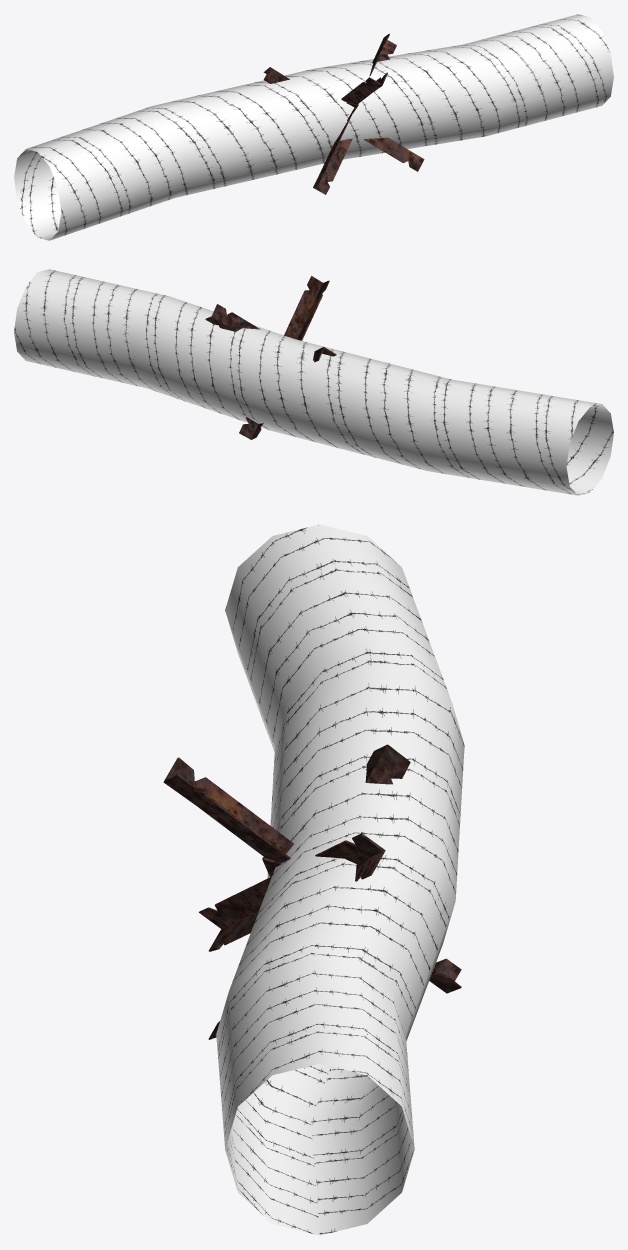
File: hedgehog_barb_1a.obj
3 views of the same model, one above another, from view 1: azimuth 30°, elevation 25°; view 2: azimuth 150°, elevation 25°; view 3: azimuth 270°, elevation 25° (orthographic). The views are drawn at different scales.
Parts seen in each view (by area): view 1: barbwire, hedgehog; view 2: barbwire, hedgehog; view 3: barbwire, hedgehog.
Boxes of the visible parts, x1,y1,x2,y2 form: barbwire: [14, 14, 613, 240]; hedgehog: [263, 33, 424, 194]; barbwire: [14, 269, 613, 495]; hedgehog: [205, 276, 336, 439]; barbwire: [216, 524, 464, 1235]; hedgehog: [163, 744, 461, 1039].
Size of the model in its own units: 231 by 46.19 by 54.54.
Materials: 2 (2 with a texture image).
